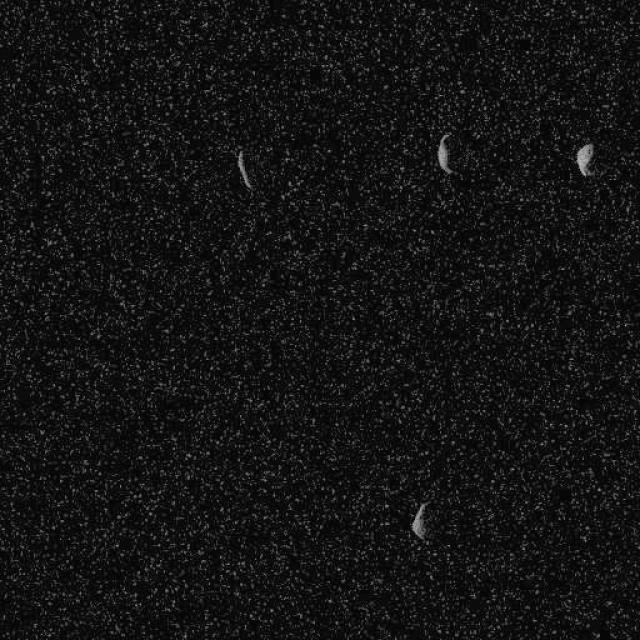D2: (435, 132, 456, 176), (410, 501, 430, 540), (235, 149, 253, 190), (575, 142, 594, 176)
